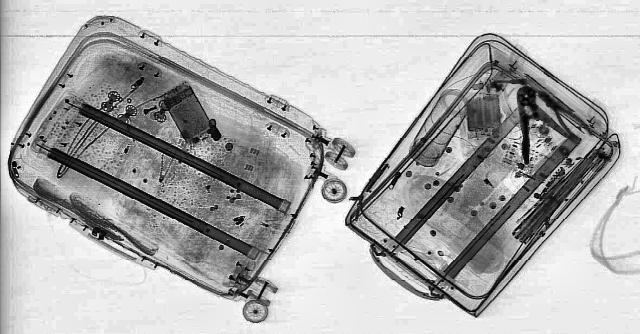Pliers: (488, 82, 590, 164), (526, 88, 600, 142)
